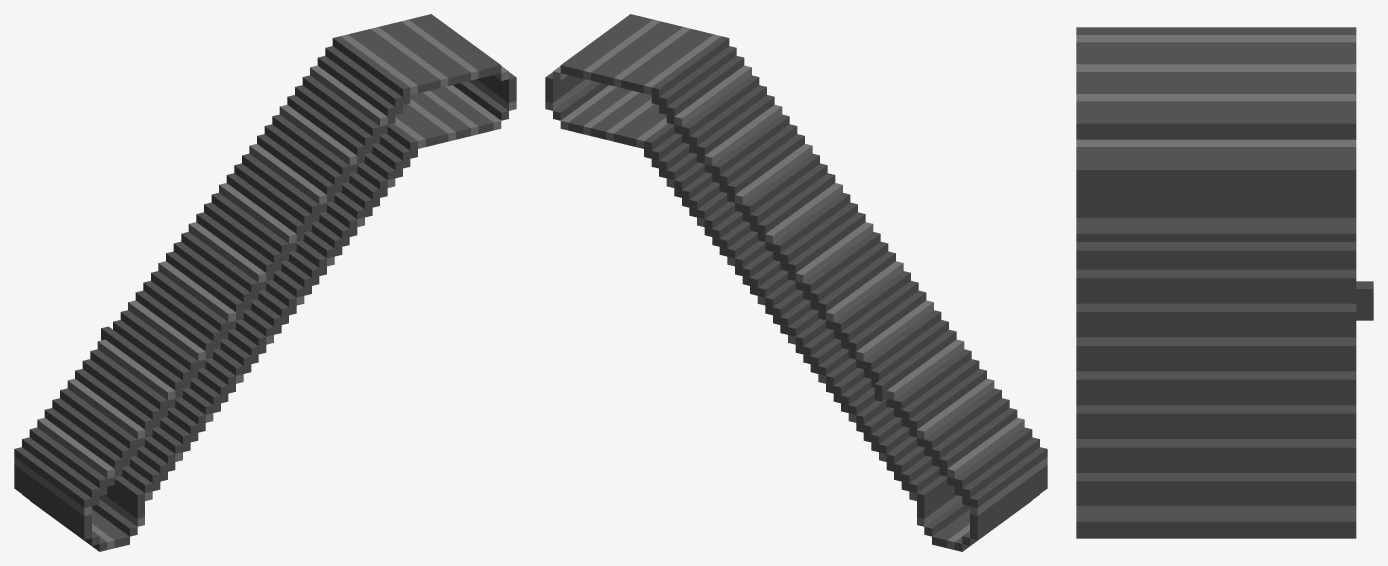
File: конвеер новый2.obj
3 renders of one model, left to right at view 1: azimuth 30°, elevation 25°; view 2: azimuth 150°, elevation 25°; view 3: azimuth 270°, elevation 25°, orthographic. The views are drawn at different scales.
Bounding box in the file's own units: 5.7 × 4.9 × 1.7.
Materials: 1 (1 with a texture image).
